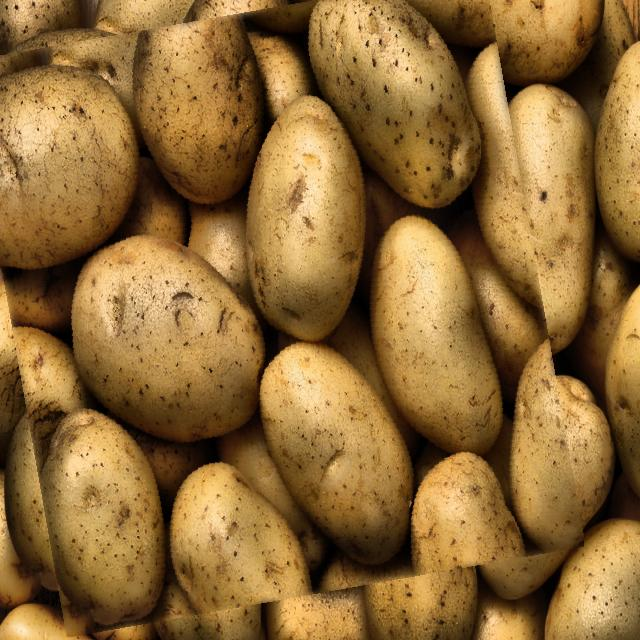potato: (0, 0, 561, 616)
